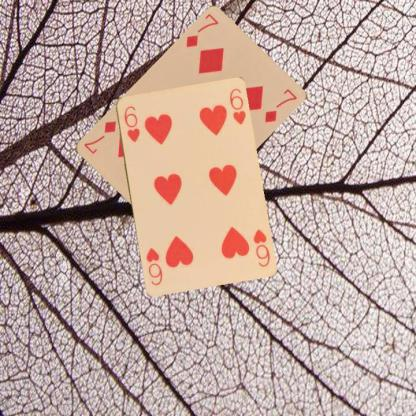6h: (250, 227, 271, 268), (121, 103, 141, 144)
7d: (183, 12, 220, 49)
